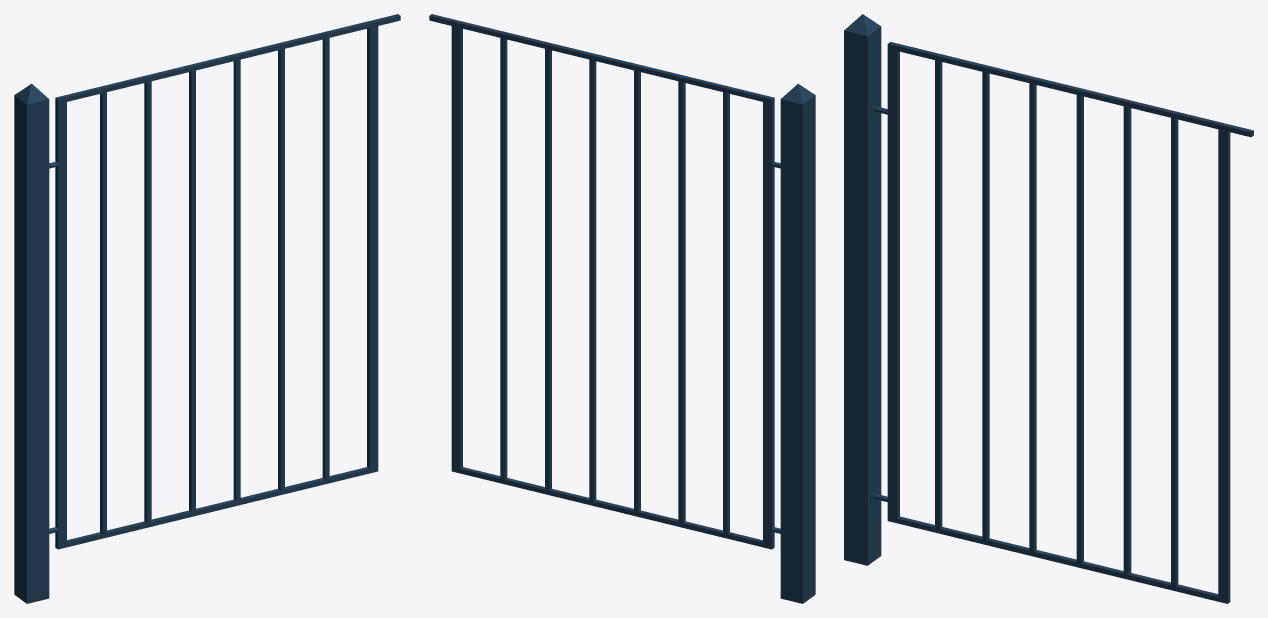
File: sweethome3d-contributions-fence-grid-gate-375.glb
The picture shows the model from 3 angles, left to right: view 1: azimuth 30°, elevation 25°; view 2: azimuth 150°, elevation 25°; view 3: azimuth 330°, elevation 25°; orthographic projection. The views are drawn at different scales.
Visible parts, largest first — view 1: 1_1_1, 1_1_12, 5_5_5, 8_8_8, 6_6_6, 3_3_3, 4_4_4, 7_7_7, 2_2_2; view 2: 1_1_1, 1_1_12, 5_5_5, 8_8_8, 6_6_6, 3_3_3, 4_4_4, 7_7_7, 2_2_2; view 3: 1_1_1, 1_1_12, 3_3_3, 5_5_5, 4_4_4, 6_6_6, 8_8_8, 7_7_7, 2_2_2.
Part boxes in pixels (x1,y1,x2,y2): 1_1_1: (49, 14, 400, 549); 1_1_12: (14, 83, 49, 603); 5_5_5: (329, 28, 369, 478); 8_8_8: (151, 71, 191, 521); 6_6_6: (240, 50, 280, 500); 3_3_3: (107, 82, 146, 532); 4_4_4: (285, 39, 324, 489); 7_7_7: (196, 61, 235, 510); 2_2_2: (67, 93, 102, 542); 1_1_1: (429, 14, 780, 549); 1_1_12: (780, 83, 815, 603); 5_5_5: (460, 28, 500, 478); 8_8_8: (638, 71, 678, 521); 6_6_6: (549, 50, 589, 500); 3_3_3: (683, 82, 722, 532); 4_4_4: (505, 39, 544, 489); 7_7_7: (594, 61, 633, 510); 2_2_2: (727, 93, 762, 542); 1_1_1: (873, 42, 1253, 603); 1_1_12: (844, 14, 881, 565); 3_3_3: (939, 61, 982, 538); 5_5_5: (1175, 119, 1218, 596); 4_4_4: (1128, 107, 1170, 584); 6_6_6: (1081, 96, 1123, 573); 8_8_8: (987, 73, 1029, 550); 7_7_7: (1034, 84, 1076, 561); 2_2_2: (897, 51, 934, 527).
Size of the model in its own units: 85 by 110 by 5.
